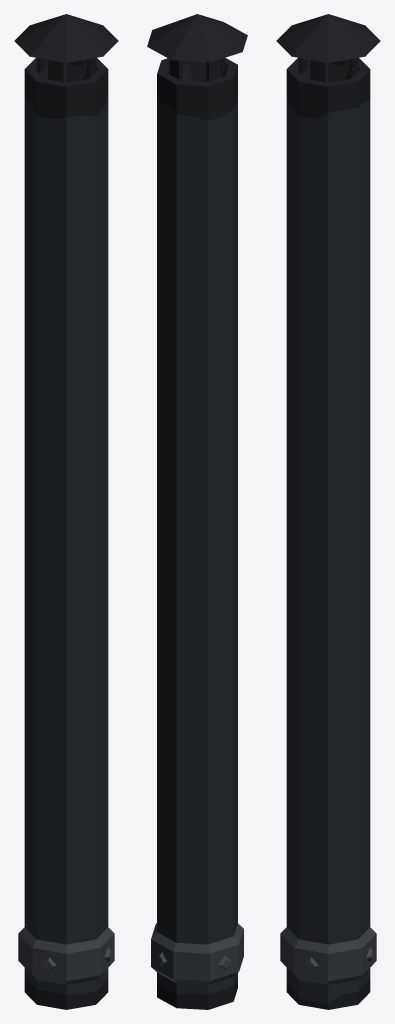
File: SM_Stove_Pipe_D.fbx
The picture shows the model from 3 angles, left to right: view 1: azimuth 90°, elevation 25°; view 2: azimuth 150°, elevation 25°; view 3: azimuth 270°, elevation 25°; orthographic projection.
Parts seen in each view (by area): view 1: SM_Stove_Pipe_D; view 2: SM_Stove_Pipe_D; view 3: SM_Stove_Pipe_D.
Part boxes in pixels (x1,y1,x2,y2): SM_Stove_Pipe_D: [14, 14, 118, 1009]; SM_Stove_Pipe_D: [147, 14, 247, 1009]; SM_Stove_Pipe_D: [276, 14, 380, 1009].
Size of the model in its own units: 30.74 by 318 by 30.74.
